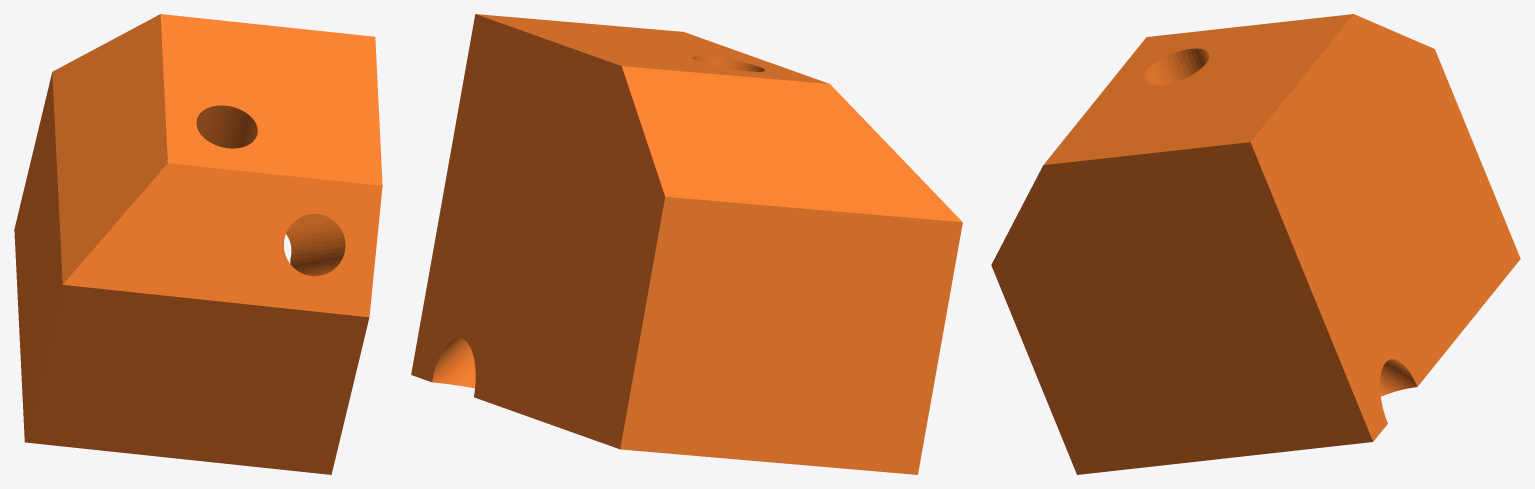
File: T-block.glb
The picture shows the model from 3 angles, left to right: view 1: azimuth 30°, elevation 25°; view 2: azimuth 150°, elevation 25°; view 3: azimuth 270°, elevation 25°; orthographic projection. The views are drawn at different scales.
Visible parts, largest first — view 1: node_id3; view 2: node_id3; view 3: node_id3.
Boxes of the visible parts, x1=… form: node_id3: x1=14, y1=14, x2=382, y2=474; node_id3: x1=411, y1=14, x2=962, y2=474; node_id3: x1=991, y1=14, x2=1520, y2=474.
Bounding box in the file's own units: 0.6866 × 0.695 × 0.7684.
Materials: 1 (1 with a texture image).
